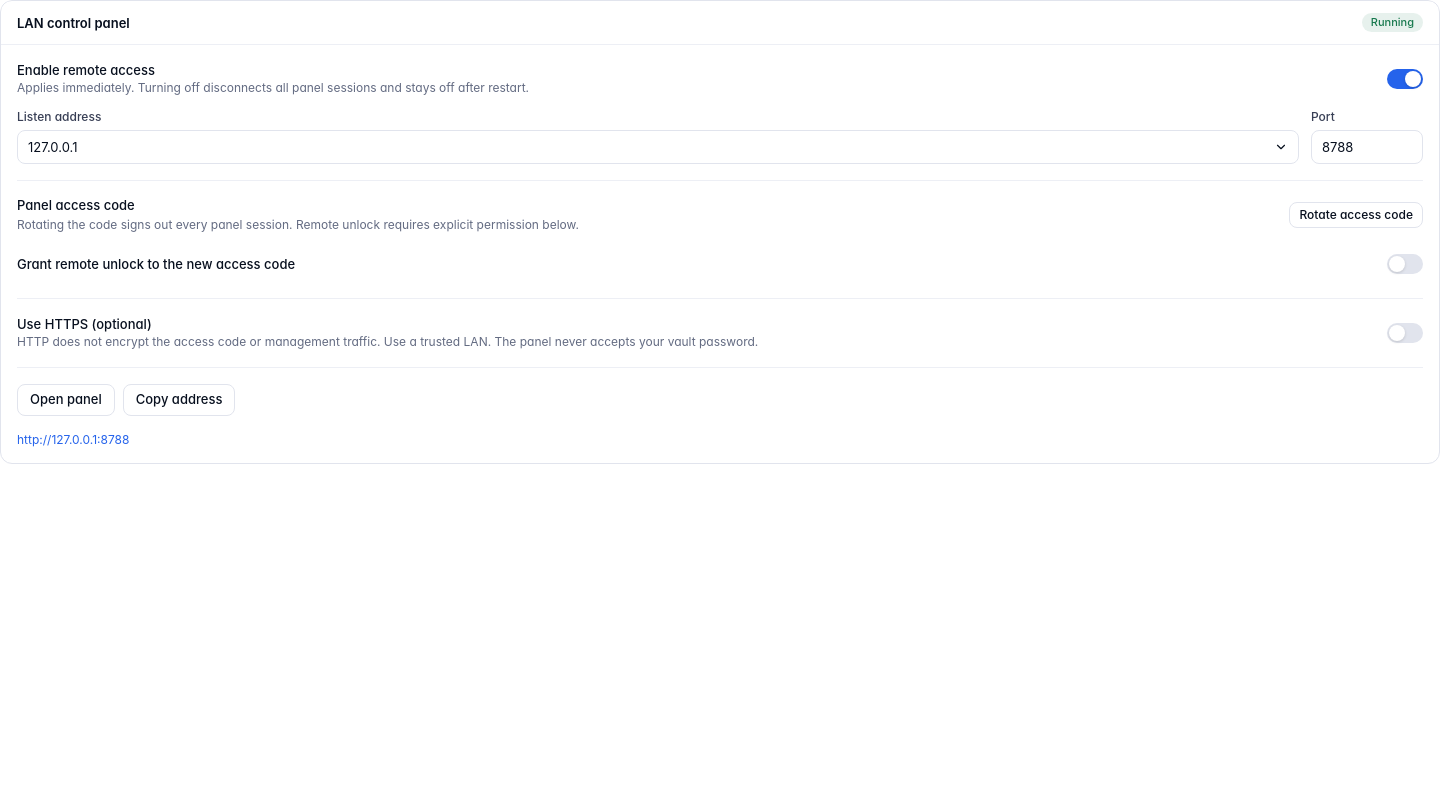
Scenario: a failed listener change leaves the original running service visible
The width and height of the screenshot is (1440, 810).
Expected: the switch named "Enable remote access" is enabled, x1=1387 y1=69 x2=1423 y2=89
Replace the text in the number field labelled "Port" with "9876" at (1367, 147), box x1=1311 y1=130 x2=1423 y2=164
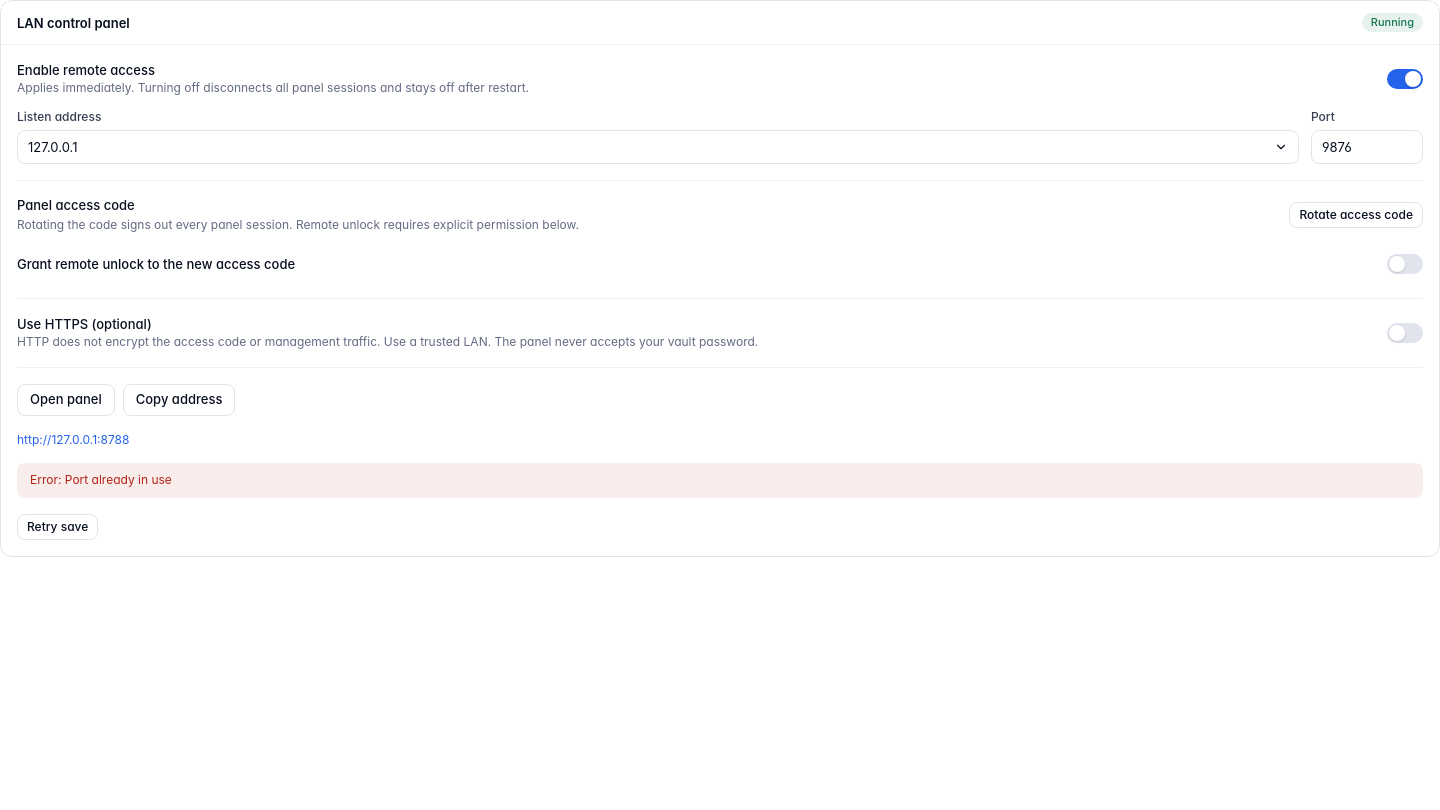
Expected: the link with class "url" reads "http://127.0.0.1:8788", x1=17 y1=432 x2=129 y2=447
Result: the message "Error: Port already in use" is shown at x1=17 y1=463 x2=1423 y2=498
